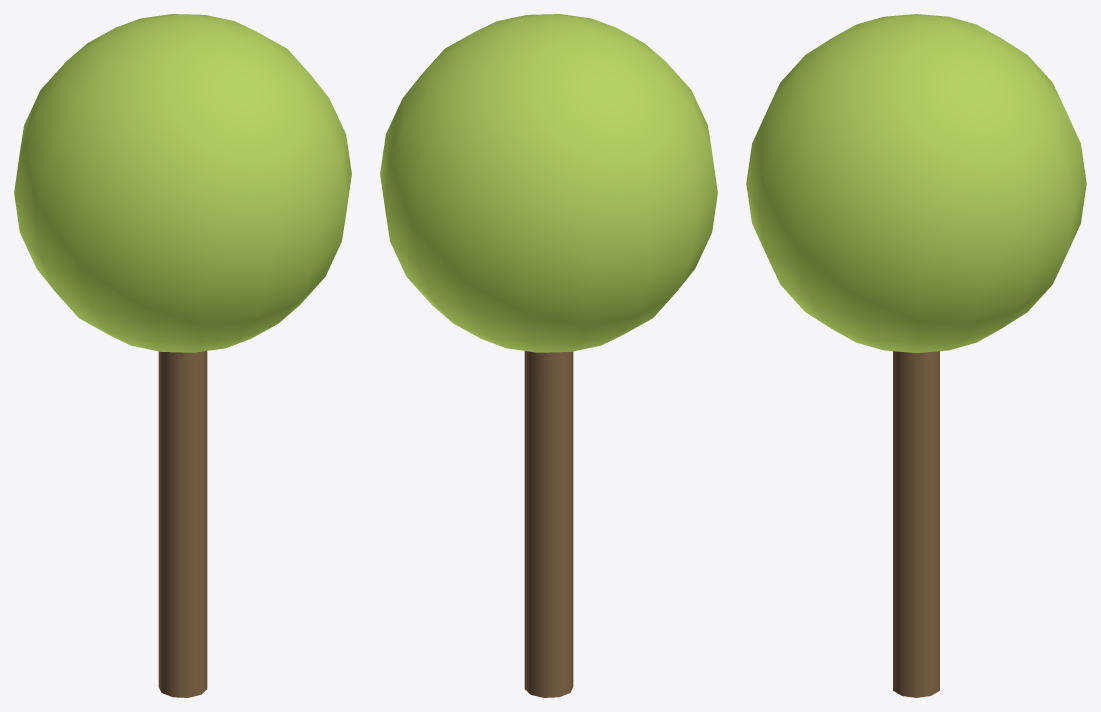
File: sticky-bomb.glb
3 renders of one model, left to right at view 1: azimuth 30°, elevation 25°; view 2: azimuth 150°, elevation 25°; view 3: azimuth 270°, elevation 25°, orthographic.
Parts seen in each view (by area): view 1: StickyBall, Handle; view 2: StickyBall, Handle; view 3: StickyBall, Handle.
Boxes of the visible parts, <box> form: StickyBall: <box>14,14,351,352</box>; Handle: <box>158,351,207,697</box>; StickyBall: <box>380,14,717,352</box>; Handle: <box>524,351,573,697</box>; StickyBall: <box>746,14,1086,352</box>; Handle: <box>893,351,939,697</box>.
Size of the model in its own units: 0.9 by 1.92 by 0.9.
